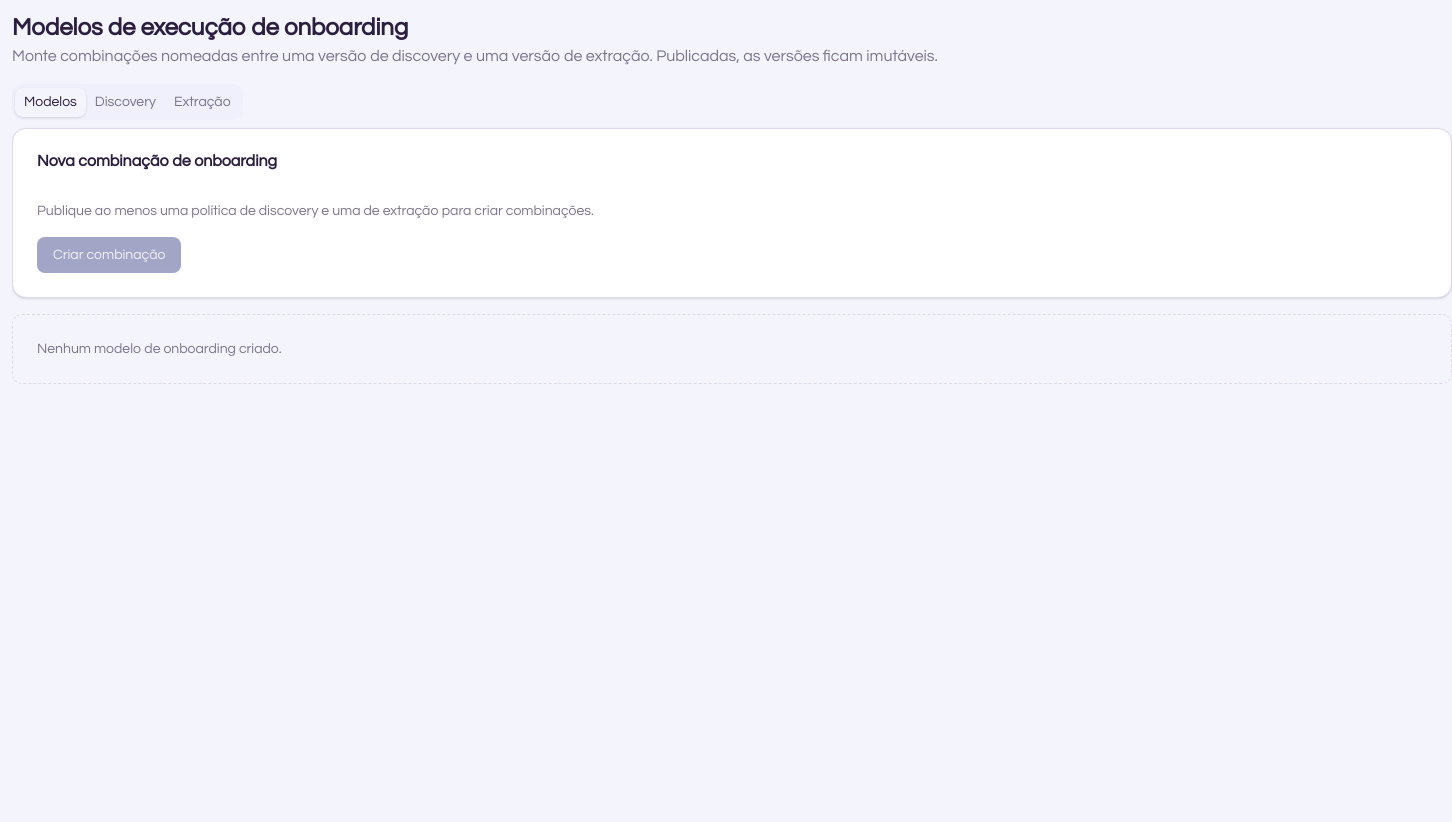
OnboardingCatalogsClient › creates an extraction draft with the fixed canonical strategy order
Press the mouse on the tab "Extração" at (202,102), box [165, 88, 240, 116]
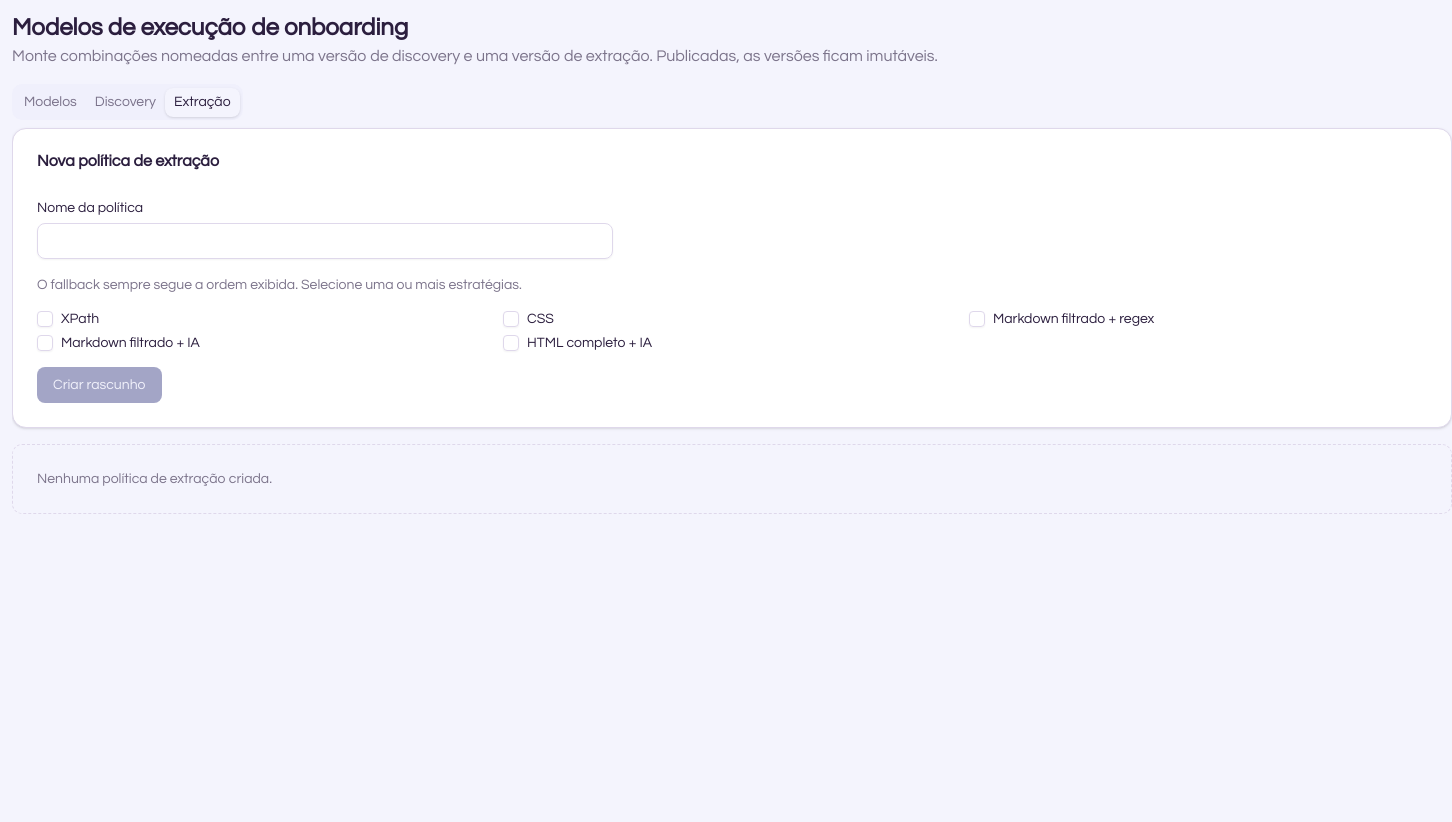
Type "Fallback premium" into the field labelled "Nome da política" at (325,241), box [37, 223, 613, 259]
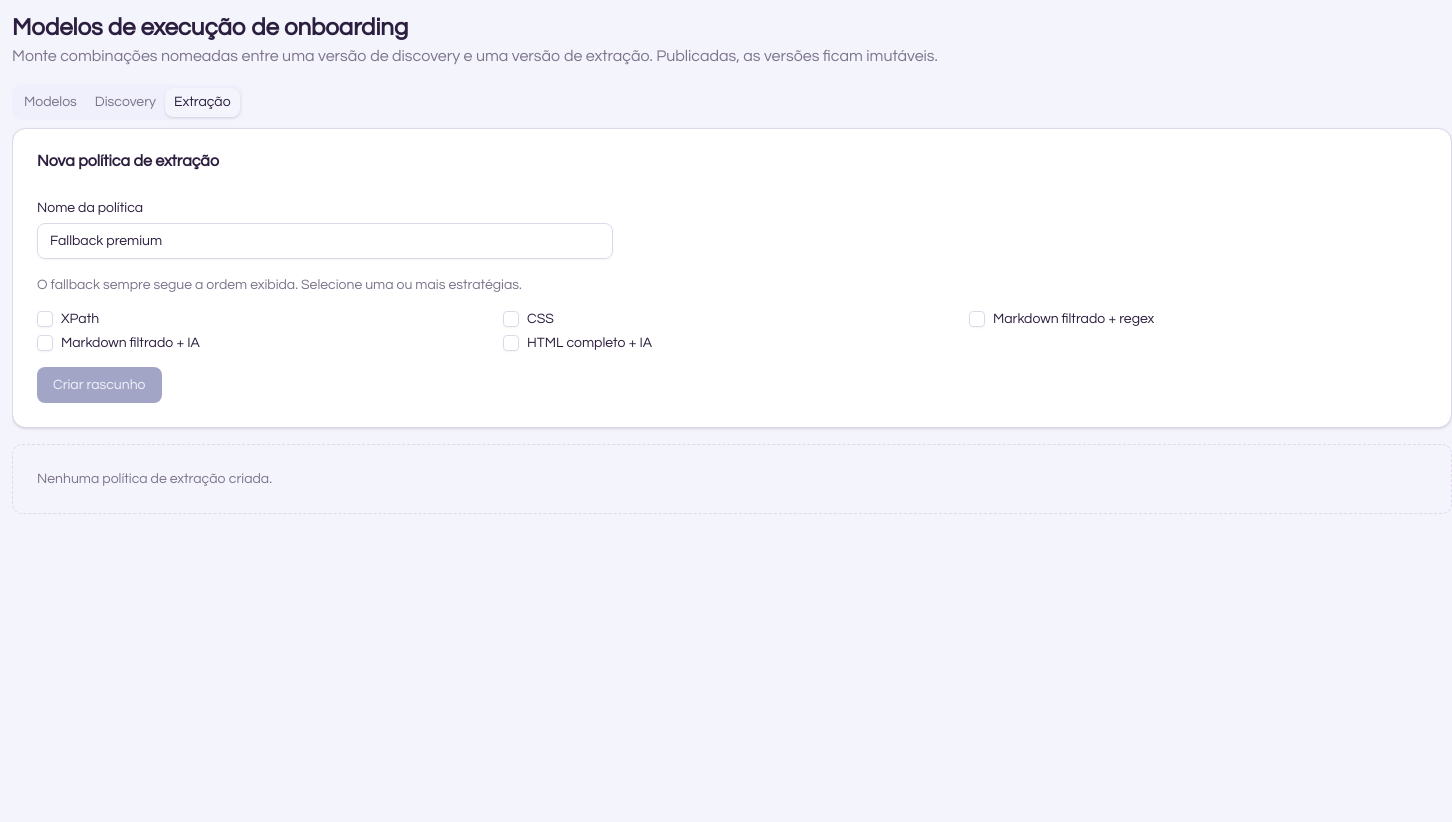
Click the checkbox named "HTML completo + IA" next to "HTML completo + IA" at (511,343), box [503, 335, 519, 351]
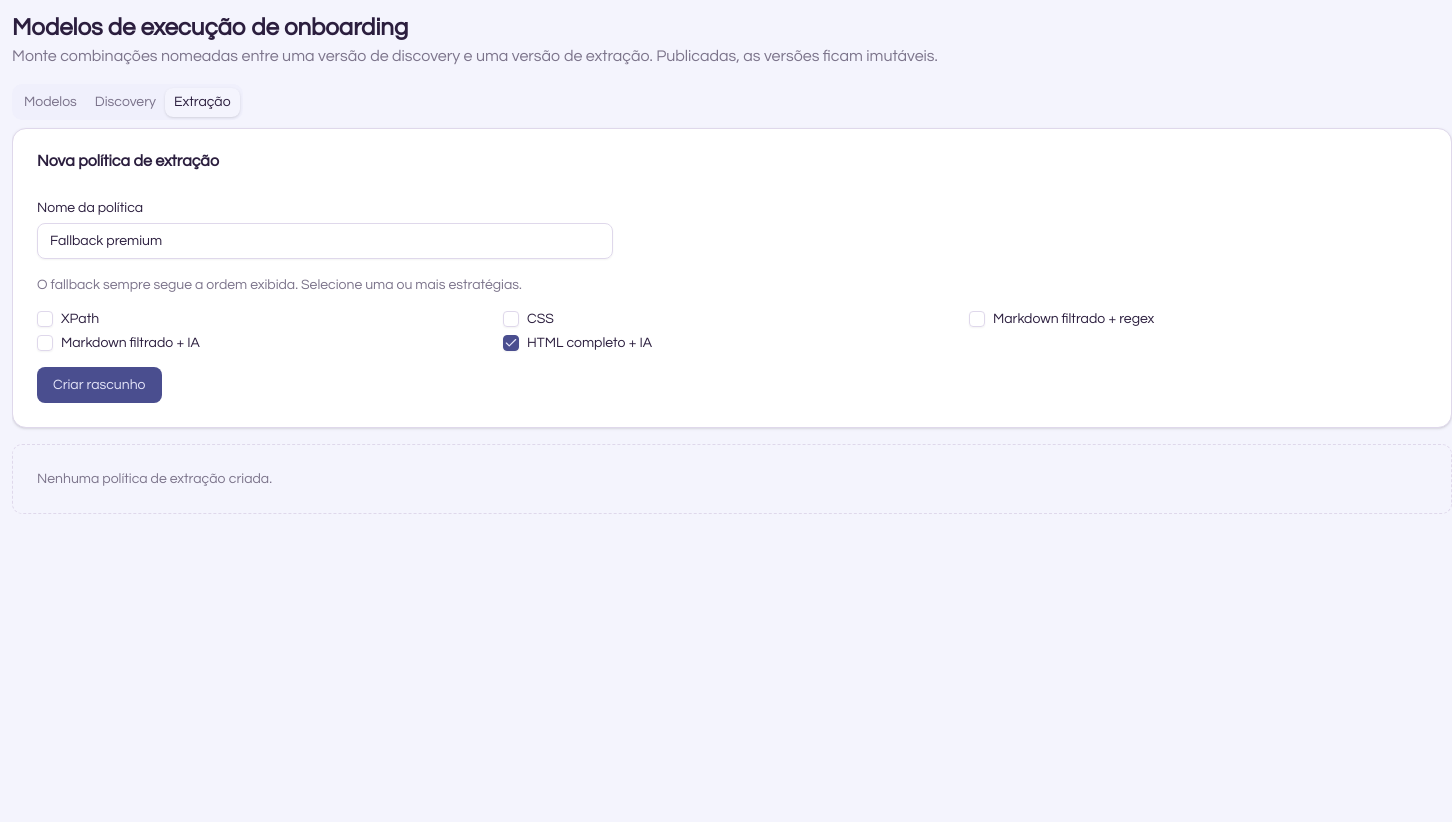
Click the checkbox named "XPath" next to "XPath" at (45,319), box [37, 311, 53, 327]
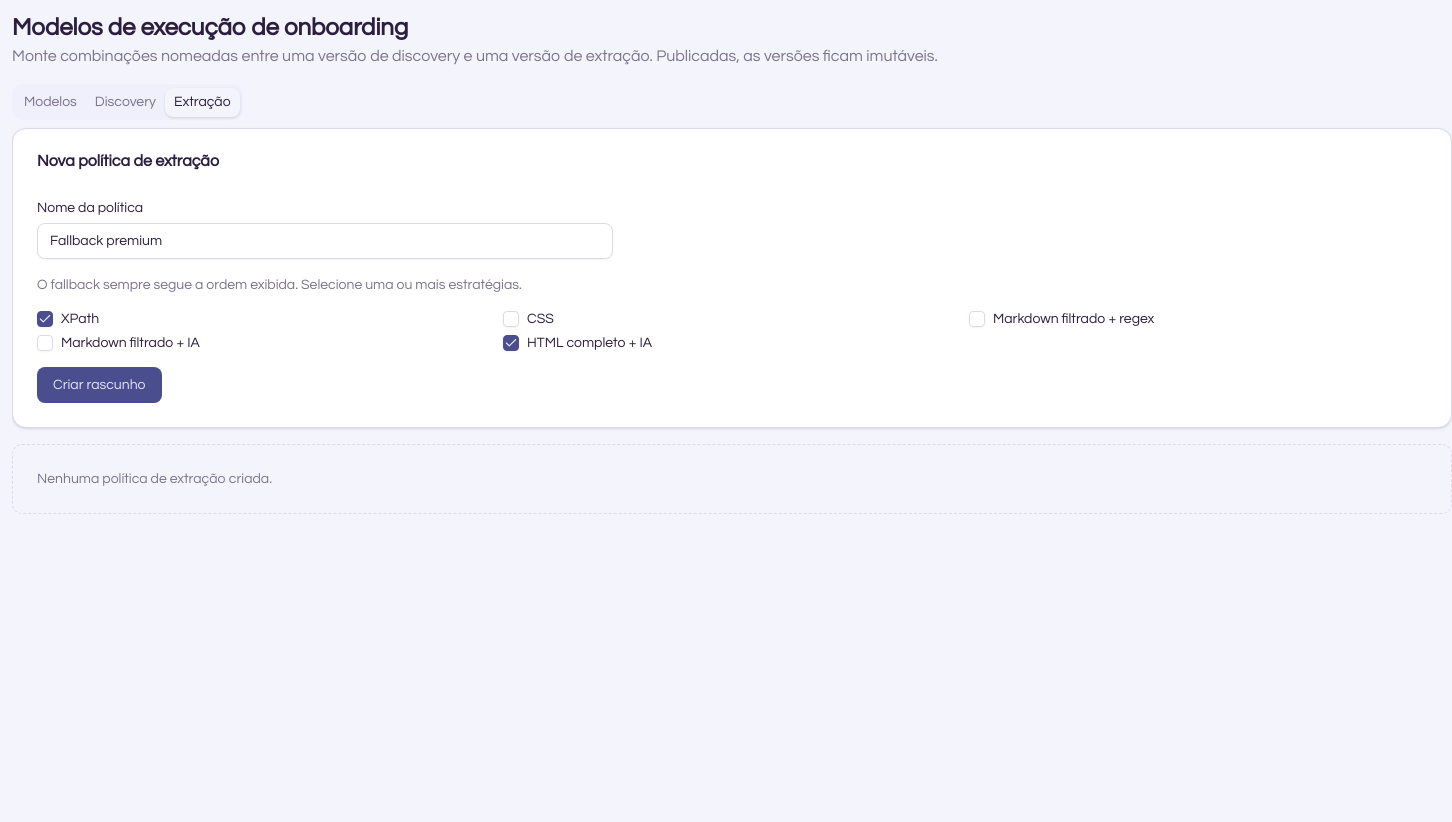
Click the button "Criar rascunho" at (99,385), box [37, 367, 162, 403]
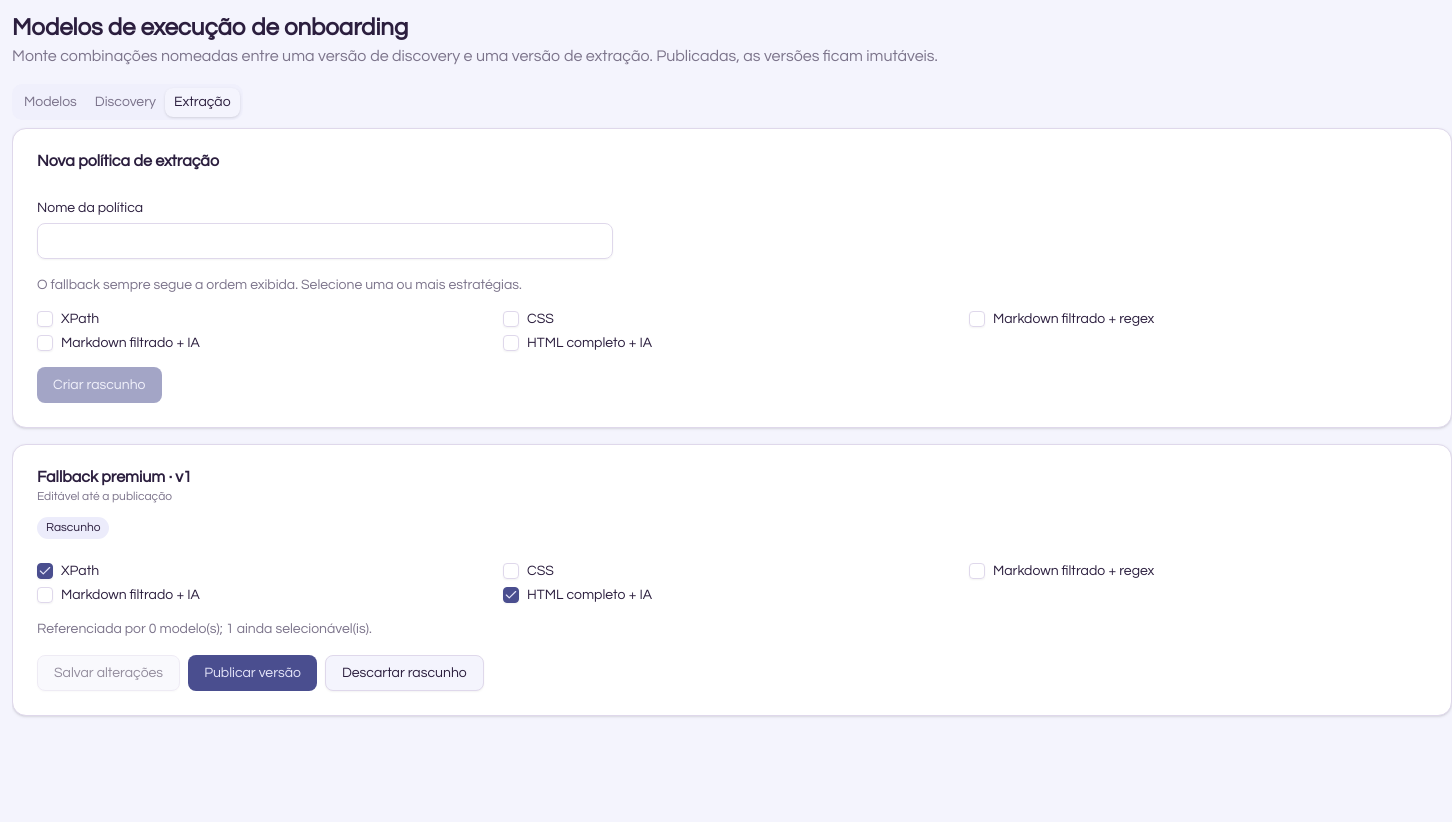
expect the text "Fallback premium · v1" is shown: met, box [37, 469, 192, 485]
